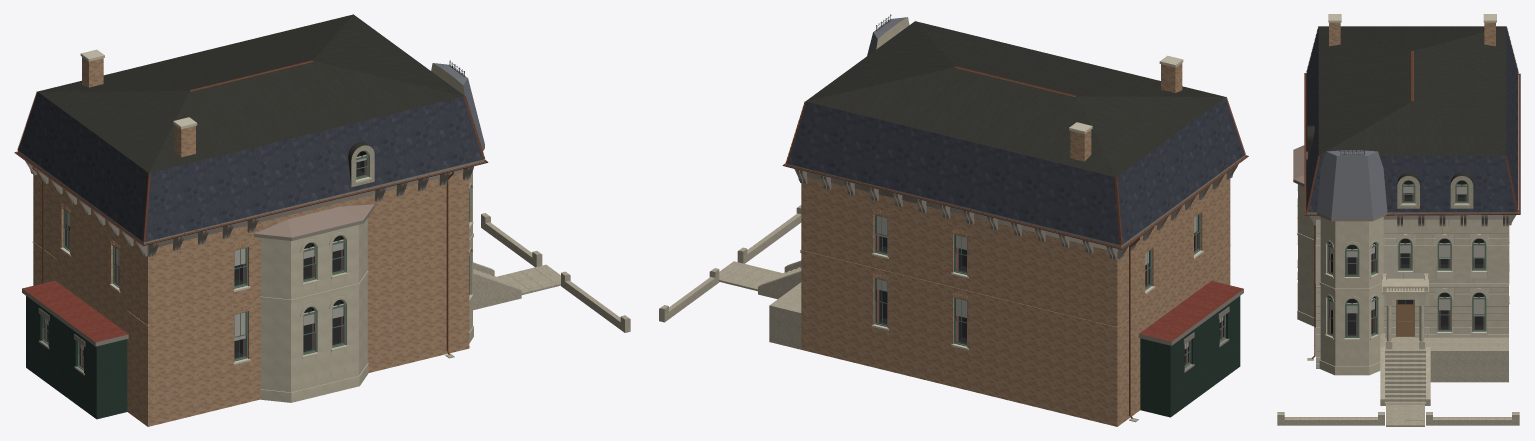
File: elbridge_keith_house_1900_prairie__as_mapped_1904.glb
3 renders of one model, left to right at view 1: azimuth 30°, elevation 25°; view 2: azimuth 150°, elevation 25°; view 3: azimuth 270°, elevation 25°, orthographic. The views are drawn at different scales.
Parts seen in each view (by area): view 1: elbridge_keith_house_1900_prairie__as_mapped_1904; view 2: elbridge_keith_house_1900_prairie__as_mapped_1904; view 3: elbridge_keith_house_1900_prairie__as_mapped_1904.
Boxes of the visible parts, box(x1,y1,x2,y2) form: elbridge_keith_house_1900_prairie__as_mapped_1904: box(14, 14, 630, 426); elbridge_keith_house_1900_prairie__as_mapped_1904: box(659, 14, 1248, 426); elbridge_keith_house_1900_prairie__as_mapped_1904: box(1277, 14, 1520, 426).
Size of the model in its own units: 30.72 by 16.86 by 15.52.
Materials: 28 (16 with a texture image).
